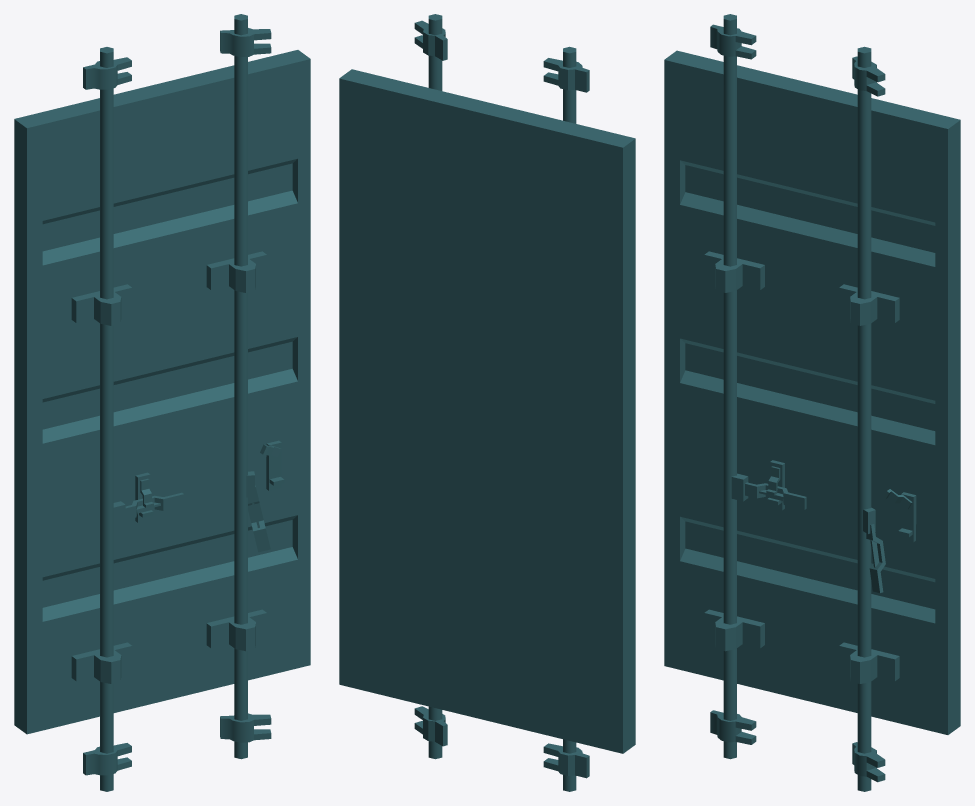
Rendered from mesh_ShippingContainerDoorR_v2.fbx.
3 views of the same model, side by side, from view 1: azimuth 30°, elevation 25°; view 2: azimuth 150°, elevation 25°; view 3: azimuth 330°, elevation 25° (orthographic).
Visible parts, largest first — view 1: mesh_ShippingContainerDoorR_v2_0; view 2: mesh_ShippingContainerDoorR_v2_0; view 3: mesh_ShippingContainerDoorR_v2_0.
Boxes of the visible parts, left/top/right/bottom form: mesh_ShippingContainerDoorR_v2_0: left=14, top=14, right=310, bottom=791; mesh_ShippingContainerDoorR_v2_0: left=339, top=14, right=635, bottom=791; mesh_ShippingContainerDoorR_v2_0: left=664, top=14, right=960, bottom=791.
Bounding box in the file's own units: 81.53 × 203 × 14.39.
